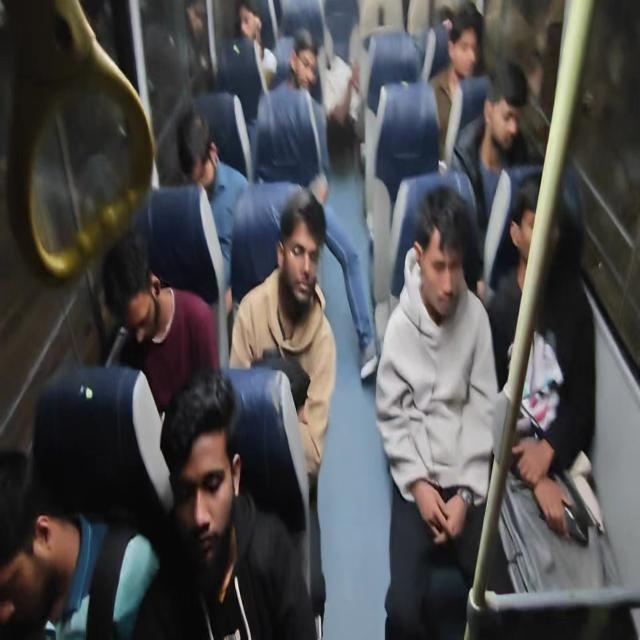person: (164, 371, 248, 581), (0, 441, 68, 640), (94, 234, 164, 356), (411, 183, 466, 327), (504, 168, 560, 282), (275, 193, 327, 315), (170, 94, 230, 192), (484, 60, 526, 164), (451, 0, 485, 95), (230, 2, 266, 66), (290, 26, 320, 100), (429, 2, 455, 39)
